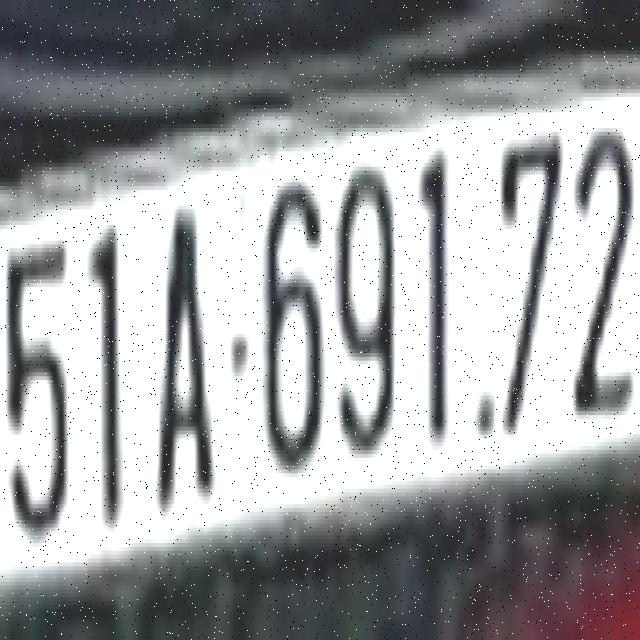1: (87, 202, 126, 535), (417, 136, 450, 446)
2: (572, 112, 636, 423)
5: (3, 223, 71, 545)
6: (264, 165, 322, 479)
7: (498, 116, 561, 438)
9: (337, 157, 396, 464)
A: (154, 188, 215, 510)
